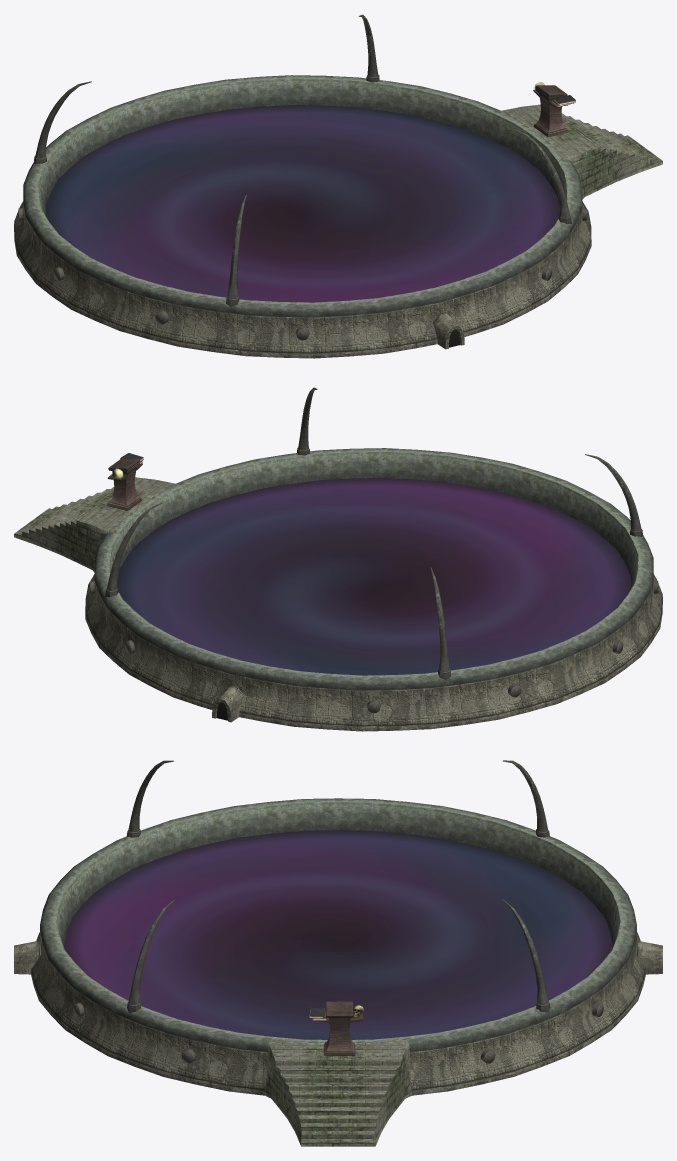
File: Well.fbx
3 views of the same model, one above another, from view 1: azimuth 30°, elevation 25°; view 2: azimuth 150°, elevation 25°; view 3: azimuth 270°, elevation 25° (orthographic). The views are drawn at different scales.
Parts seen in each view (by area): view 1: Mesh Object; view 2: Mesh Object; view 3: Mesh Object.
Boxes of the visible parts, <box> form: Mesh Object: <box>14,14,662,358</box>; Mesh Object: <box>14,387,662,731</box>; Mesh Object: <box>14,760,662,1146</box>.
Size of the model in its own units: 14.68 by 3.1 by 13.08.
